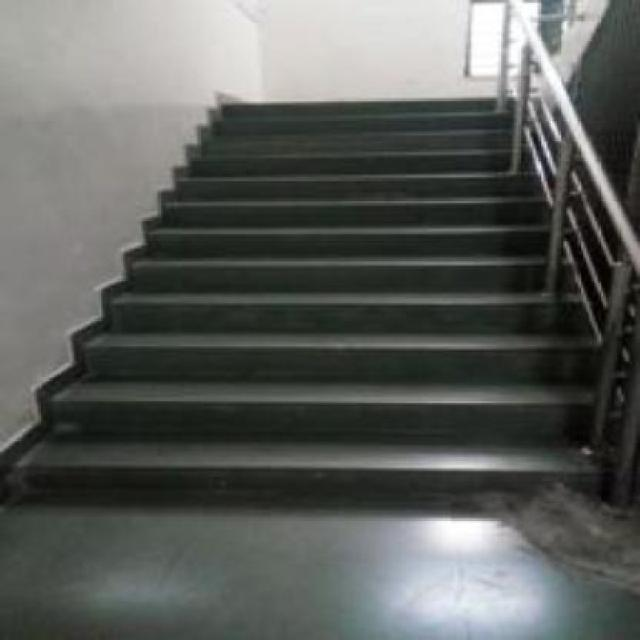stair: (13, 81, 615, 517)
